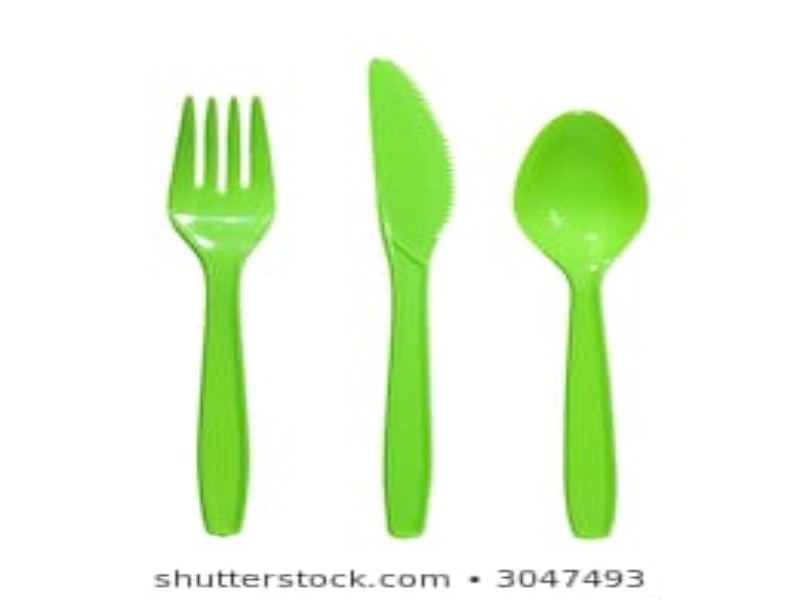plastic-silverware: (508, 106, 651, 541), (165, 91, 278, 537), (367, 53, 458, 539)
